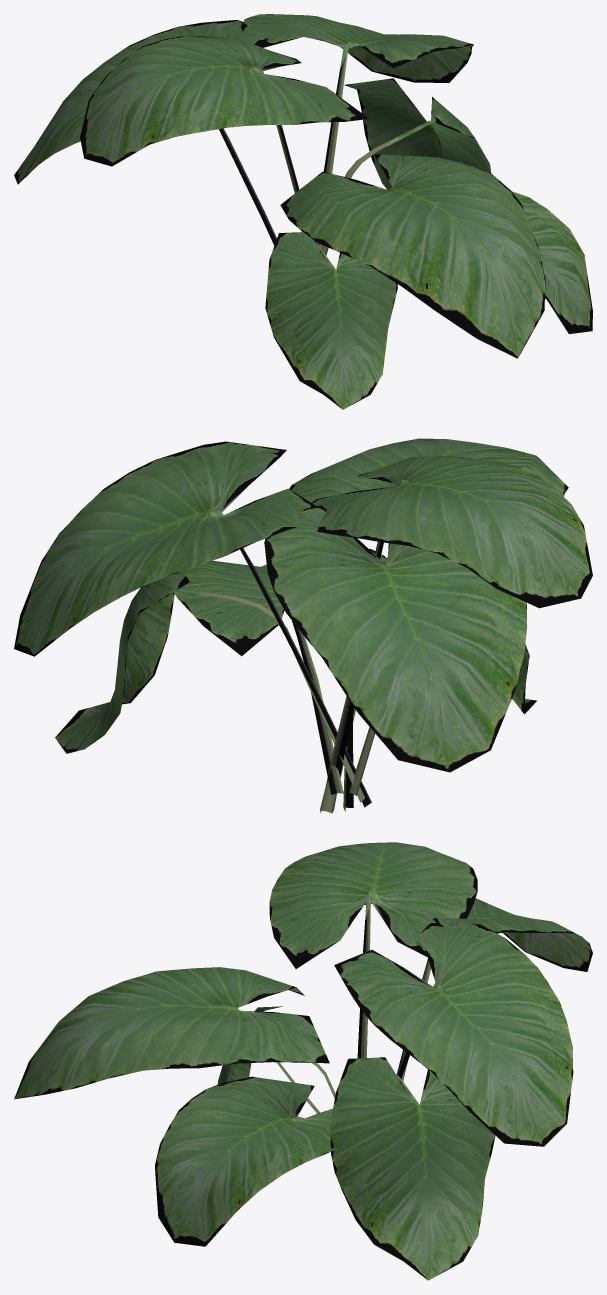
File: taro.gltf
The picture shows the model from 3 angles, top to bottom: view 1: azimuth 30°, elevation 25°; view 2: azimuth 150°, elevation 25°; view 3: azimuth 270°, elevation 25°; orthographic projection. The views are drawn at different scales.
Parts seen in each view (by area): view 1: taro; view 2: taro; view 3: taro.
Boxes of the visible parts, <box> form: taro: <box>14,14,592,409</box>; taro: <box>14,438,592,813</box>; taro: <box>14,842,592,1280</box>.
Bounding box in the file's own units: 2.41 × 1.67 × 2.88.
1 material, 1 textured.
